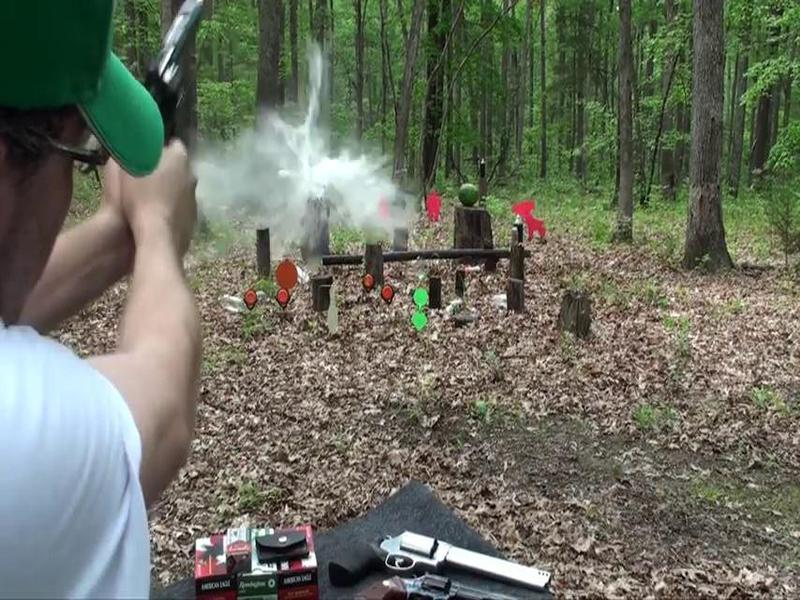Revolver: (124, 1, 207, 158)
